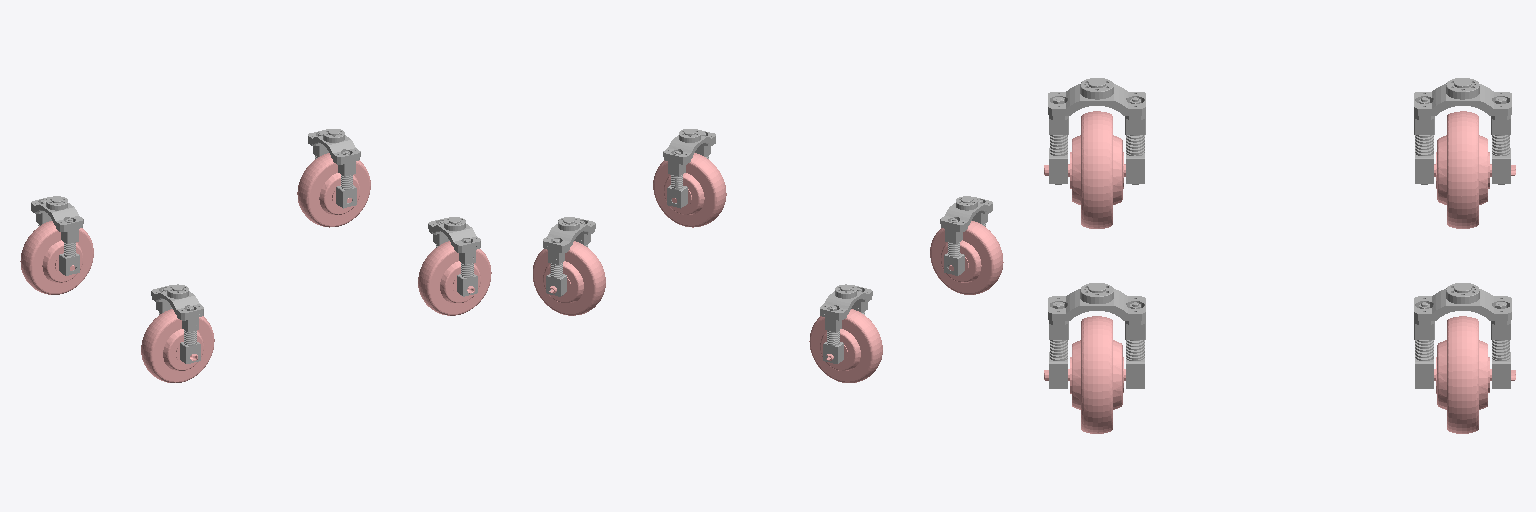
URDF robot description (holonomic_base):
<?xml version="1.0" ?>
<!-- =================================================================================== -->
<!-- |    This document was autogenerated by xacro from holonomic_mm_no_arm.urdf.xacro | -->
<!-- |    EDITING THIS FILE BY HAND IS NOT RECOMMENDED                                 | -->
<!-- =================================================================================== -->
<robot name="holonomic_base">
  <!-- "" -->
  <link name="base_link">
    <inertial>
      <origin rpy="0 0 0" xyz="-0.0107573806983678 -0.000121111379146382 0.168820068401291"/>
      <mass value="30.0"/>
      <inertia ixx="0.674364406464489" ixy="2.6530001859869E-06" ixz="-2.02885454828053E-06" iyy="0.607129183001536" iyz="-2.82546028667119E-08" izz="0.67886359812438"/>
    </inertial>
    <visual>
      <origin rpy="0 0 0" xyz="0 0 0"/>
      <geometry>
        <mesh filename="./meshes/holonomic/base_link.STL"/>
      </geometry>
      <material name="">
        <color rgba="0.752941176470588 0.752941176470588 0.752941176470588 1"/>
      </material>
    </visual>
    <collision>
      <origin rpy="0 0 0" xyz="0 0 0"/>
      <geometry>
        <mesh filename="./meshes/holonomic/base_link.STL"/>
      </geometry>
    </collision>
  </link>

  
  <link name="leg_fl">
    <inertial>
      <origin rpy="0 0 0" xyz="0.0 0.0 -0.041346"/>
      <mass value="1.0"/>
      <inertia ixx="8.621E-03" ixy="-2.6953E-09" ixz="-8.1387E-10" iyy="5.4519E-03" iyz="-1.5042E-09" izz="6.6419E-03"/>
    </inertial>
    <visual>
      <origin rpy="0 0 0" xyz="0 0 0"/>
      <geometry>
        <mesh filename="./meshes/holonomic/turn_front_left_link.STL"/>
      </geometry>
      <material name="">
        <color rgba="0.75294 0.75294 0.75294 1"/>
      </material>
    </visual>
    <collision>
      <origin rpy="0 0 0" xyz="0 0 0"/>
      <geometry>
        <mesh filename="./meshes/holonomic/turn_front_left_link.STL"/>
      </geometry>
    </collision>
  </link>
  <joint name="left_front_steer_joint" type="revolute">
    <origin rpy="3.1415926 0 3.1415926" xyz="0.285 0.215 0.0705"/>
    <parent link="base_link"/>
    <child link="leg_fl"/>
    <axis xyz="0 0 1"/>
    <limit effort="1000.0" lower="-3.341" upper="3.341" velocity="5.00"/>
    <joint_properties damping="1.0"/>
  </joint>
  <link name="leg_fr">
    <inertial>
      <origin rpy="0 0 0" xyz="0.0 0.0 -0.041346"/>
      <mass value="1.0"/>
      <inertia ixx="8.621E-03" ixy="-2.6953E-09" ixz="-8.1387E-10" iyy="5.4519E-03" iyz="-1.5042E-09" izz="6.6419E-03"/>
    </inertial>
    <visual>
      <origin rpy="0 0 0" xyz="0 0 0"/>
      <geometry>
        <mesh filename="./meshes/holonomic/turn_front_right_link.STL"/>
      </geometry>
      <material name="">
        <color rgba="0.75294 0.75294 0.75294 1"/>
      </material>
    </visual>
    <collision>
      <origin rpy="0 0 0" xyz="0 0 0"/>
      <geometry>
        <mesh filename="./meshes/holonomic/turn_front_right_link.STL"/>
      </geometry>
    </collision>
  </link>
  <joint name="right_front_steer_joint" type="revolute">
    <origin rpy="3.1415926 0 3.1415926" xyz="0.285 -0.215 0.0705"/>
    <!-- <origin xyz="0.585 -0.215 0.0705" rpy="3.14159265358979 0 3.14159265358979" /> -->
    <parent link="base_link"/>
    <child link="leg_fr"/>
    <axis xyz="0 0 1"/>
    <limit effort="1000.0" lower="-3.341" upper="3.341" velocity="5.00"/>
    <joint_properties damping="1.0"/>
  </joint>

  <link name="leg_rl">
    <inertial>
      <origin rpy="0 0 0" xyz="0.0 0.0 -0.041346"/>
      <mass value="1.0"/>
      <inertia ixx="8.621E-03" ixy="-2.6953E-09" ixz="-8.1387E-10" iyy="5.4519E-03" iyz="-1.5042E-09" izz="6.6419E-03"/>
    </inertial>
    <visual>
      <origin rpy="0 0 0" xyz="0 0 0"/>
      <geometry>
        <mesh filename="./meshes/holonomic/turn_back_left_link.STL"/>
      </geometry>
      <material name="">
        <color rgba="0.75294 0.75294 0.75294 1"/>
      </material>
    </visual>
    <collision>
      <origin rpy="0 0 0" xyz="0 0 0"/>
      <geometry>
        <mesh filename="./meshes/holonomic/turn_back_left_link.STL"/>
      </geometry>
    </collision>
  </link>
  <joint name="left_back_steer_joint" type="revolute">
    <origin rpy="-3.1415926 0 0" xyz="-0.285 0.215 0.0705"/>
    <!-- <origin xyz="-0.585 0.215 0.0705" rpy="-3.141592653 0 0" /> -->
    <parent link="base_link"/>
    <child link="leg_rl"/>
    <axis xyz="0 0 1"/>
    <limit effort="1000.0" lower="-3.341" upper="3.341" velocity="5.00"/>
    <joint_properties damping="1.0"/>
  </joint>

  <link name="leg_rr">
    <inertial>
      <origin rpy="0 0 0" xyz="0.0 0.0 -0.041346"/>
      <mass value="1.0"/>
      <inertia ixx="8.621E-03" ixy="-2.6953E-09" ixz="-8.1387E-10" iyy="5.4519E-03" iyz="-1.5042E-09" izz="6.6419E-03"/>
    </inertial>
    <visual>
      <origin rpy="0 0 0" xyz="0 0 0"/>
      <geometry>
        <mesh filename="./meshes/holonomic/turn_back_right_link.STL"/>
      </geometry>
      <material name="">
        <color rgba="0.75294 0.75294 0.75294 1"/>
      </material>
    </visual>
    <collision>
      <origin rpy="0 0 0" xyz="0 0 0"/>
      <geometry>
        <mesh filename="./meshes/holonomic/turn_back_right_link.STL"/>
      </geometry>
    </collision>
  </link>
  <joint name="right_back_steer_joint" type="revolute">
    <origin rpy="3.1415926 0 0" xyz="-0.285 -0.215 0.0705"/>
    <!-- <origin xyz="-0.585 -0.215 0.0705" rpy="3.141592653 0 0" /> -->
    <parent link="base_link"/>
    <child link="leg_rr"/>
    <axis xyz="0 0 1"/>
    <limit effort="1000.0" lower="-3.341" upper="3.341" velocity="5.00"/>
    <joint_properties damping="1.0"/>
  </joint>

  <link name="wheel_fl">
    <inertial>
      <origin rpy="0 0 0" xyz="-6.7203E-07 -0.0039185 1.1995E-07"/>
      <mass value="3.1"/>
      <inertia ixx="8.621E-02" ixy="-2.6953E-09" ixz="-8.1387E-10" iyy="5.4519E-02" iyz="-1.5042E-09" izz="6.6419E-02"/>
    </inertial>
    <visual>
      <origin rpy="0 0 0" xyz="0 0 0"/>
      <geometry>
        <mesh filename="./meshes/holonomic/wheel_front_left_link.STL"/>
      </geometry>
      <material name="">
        <color rgba="1 0.75294 0.75294 1"/>
      </material>
    </visual>
    <collision>
      <origin rpy="0 0 0" xyz="0 0 0"/>
      <geometry>
        <mesh filename="./meshes/holonomic/wheel_front_left_link.STL"/>
      </geometry>
    </collision>
  </link>
  <joint name="left_front_wheel_joint" type="continuous">
    <origin rpy="-1.570796327 1.570796327 0" xyz="0 0.0039 0.101"/>
    <parent link="leg_fl"/>
    <child link="wheel_fl"/>
    <axis xyz="0 0 1"/>
    <limit effort="10000" velocity="100"/>
    <joint_properties damping="1.0"/>
  </joint>

  <link name="wheel_fr">
    <inertial>
      <origin rpy="0 0 0" xyz="6.7203E-07 0.0039185 1.1995E-07"/>
      <mass value="3.1"/>
      <inertia ixx="8.621E-02" ixy="-2.6953E-09" ixz="-8.1387E-10" iyy="5.4519E-02" iyz="-1.5042E-09" izz="6.6419E-02"/>
    </inertial>
    <visual>
      <origin rpy="0 0 0" xyz="0 0 0"/>
      <geometry>
        <mesh filename="./meshes/holonomic/wheel_front_right_link.STL"/>
      </geometry>
      <material name="">
        <color rgba="1 0.75294 0.75294 1"/>
      </material>
    </visual>
    <collision>
      <origin rpy="0 0 0" xyz="0 0 0"/>
      <geometry>
        <mesh filename="./meshes/holonomic/wheel_front_right_link.STL"/>
      </geometry>
    </collision>
  </link>
  <joint name="right_front_wheel_joint" type="continuous">
    <origin rpy="1.570796327 1.570796327 0" xyz="0 -0.0039 0.101"/>
    <parent link="leg_fr"/>
    <child link="wheel_fr"/>
    <axis xyz="0 0 1"/>
    <limit effort="10000" velocity="100"/>
    <joint_properties damping="1.0"/>
  </joint>

  <link name="wheel_rl">
    <inertial>
      <origin rpy="0 0 0" xyz="-6.7203E-07 -0.0039185 1.1995E-07"/>
      <mass value="3.1"/>
      <inertia ixx="8.621E-02" ixy="-2.6953E-09" ixz="-8.1387E-10" iyy="5.4519E-02" iyz="-1.5042E-09" izz="6.6419E-02"/>
    </inertial>
    <visual>
      <origin rpy="0 0 0" xyz="0 0 0"/>
      <geometry>
        <mesh filename="./meshes/holonomic/wheel_back_left_link.STL"/>
      </geometry>
      <material name="">
        <color rgba="1 0.75294 0.75294 1"/>
      </material>
    </visual>
    <collision>
      <origin rpy="0 0 0" xyz="0 0 0"/>
      <geometry>
        <mesh filename="./meshes/holonomic/wheel_back_left_link.STL"/>
      </geometry>
    </collision>
  </link>
  <joint name="left_back_wheel_joint" type="continuous">
    <origin rpy="1.570796327 1.570796327 0" xyz="0 -0.0039 0.101"/>
    <parent link="leg_rl"/>
    <child link="wheel_rl"/>
    <axis xyz="0 0 1"/>
    <limit effort="10000" velocity="100"/>
    <joint_properties damping="1.0"/>
  </joint>

  <link name="wheel_rr">
    <inertial>
      <origin rpy="0 0 0" xyz="6.7203E-07 0.0039185 1.1995E-07"/>
      <mass value="3.1"/>
      <inertia ixx="8.621E-02" ixy="-2.6953E-09" ixz="-8.1387E-10" iyy="5.4519E-02" iyz="-1.5042E-09" izz="6.6419E-02"/>
    </inertial>
    <visual>
      <origin rpy="0 0 0" xyz="0 0 0"/>
      <geometry>
        <mesh filename="./meshes/holonomic/wheel_back_right_link.STL"/>
      </geometry>
      <material name="">
        <color rgba="1 0.75294 0.75294 1"/>
      </material>
    </visual>
    <collision>
      <origin rpy="0 0 0" xyz="0 0 0"/>
      <geometry>
        <mesh filename="./meshes/holonomic/wheel_back_right_link.STL"/>
      </geometry>
    </collision>
  </link>
  <joint name="right_back_wheel_joint" type="continuous">
    <origin rpy="-1.570796327 1.570796327 0" xyz="0 0.0039 0.101"/>
    <parent link="leg_rr"/>
    <child link="wheel_rr"/>
    <axis xyz="0 0 1"/>
    <limit effort="10000" velocity="100"/>
    <joint_properties damping="1.0"/>
  </joint>
</robot>

--- Render facts (derived) ---
3 views of the same robot in one strip: view 1: azimuth 30°, elevation 25°; view 2: azimuth 150°, elevation 25°; view 3: azimuth 270°, elevation 25° (orthographic).
Robot: holonomic_base — 9 links, 8 joints (4 revolute, 4 continuous); root link base_link; default pose: all joints at 0.
Visible links, largest first — view 1: wheel_fr, wheel_rr, wheel_fl, wheel_rl, leg_rl, leg_fl, leg_fr, leg_rr; view 2: wheel_fl, wheel_rl, wheel_rr, wheel_fr, leg_rr, leg_fr, leg_rl, leg_fl; view 3: leg_fl, leg_fr, leg_rl, leg_rr, wheel_rr, wheel_fr, wheel_rl, wheel_fl.
Boxes of the visible links, bbox=[...] form: wheel_fr: bbox=[418, 241, 491, 315]; wheel_rr: bbox=[141, 309, 214, 382]; wheel_fl: bbox=[297, 153, 370, 227]; wheel_rl: bbox=[20, 221, 93, 294]; leg_rl: bbox=[31, 196, 83, 275]; leg_fl: bbox=[308, 129, 360, 208]; leg_fr: bbox=[428, 217, 480, 296]; leg_rr: bbox=[151, 284, 203, 363]; wheel_fl: bbox=[533, 241, 605, 315]; wheel_rl: bbox=[809, 309, 882, 382]; wheel_rr: bbox=[930, 221, 1003, 294]; wheel_fr: bbox=[653, 153, 726, 227]; leg_rr: bbox=[940, 196, 992, 275]; leg_fr: bbox=[663, 129, 715, 208]; leg_rl: bbox=[820, 284, 872, 363]; leg_fl: bbox=[543, 217, 595, 296]; leg_fl: bbox=[1414, 283, 1511, 388]; leg_fr: bbox=[1048, 283, 1145, 388]; leg_rl: bbox=[1414, 78, 1511, 184]; leg_rr: bbox=[1048, 78, 1145, 184]; wheel_rr: bbox=[1044, 111, 1125, 228]; wheel_fr: bbox=[1044, 316, 1125, 433]; wheel_rl: bbox=[1434, 111, 1515, 228]; wheel_fl: bbox=[1434, 316, 1515, 433].
Bounding box of the posed robot: 0.7089 × 0.5538 × 0.1835 m (x, y, z).
Meshes: 9 distinct files referenced, 8 mesh visuals loaded (8 binary STL); not drawn: 1 (reference not matched to a file when rendering).